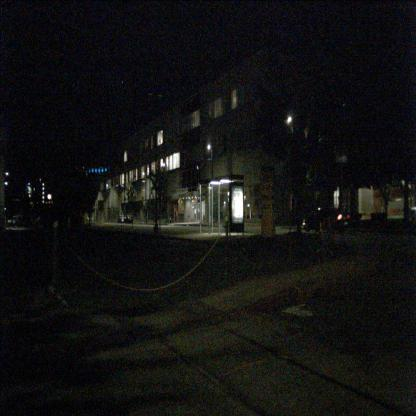vehicle-car: (302, 205, 352, 232), (117, 214, 126, 224), (124, 214, 132, 224)
